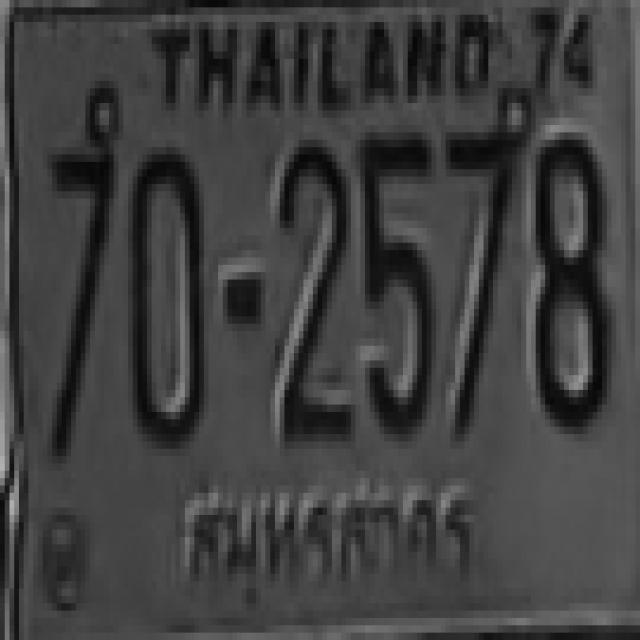0: (130, 143, 207, 438)
2: (272, 132, 348, 442), (275, 136, 346, 423)
5: (358, 129, 434, 430)
7: (441, 118, 521, 434), (47, 144, 114, 452), (441, 121, 521, 328), (47, 143, 114, 350)
8: (531, 132, 607, 427)
SamutSakhon: (174, 472, 485, 606)
